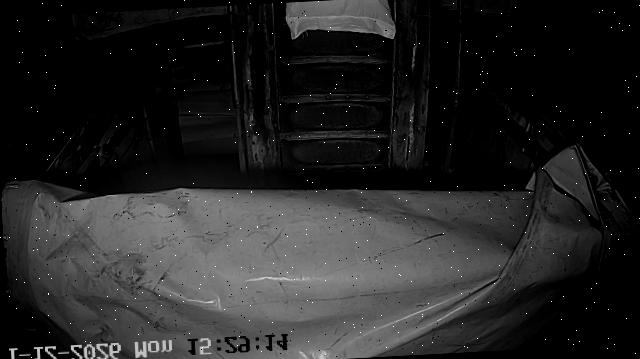bag: (284, 0, 395, 43)
